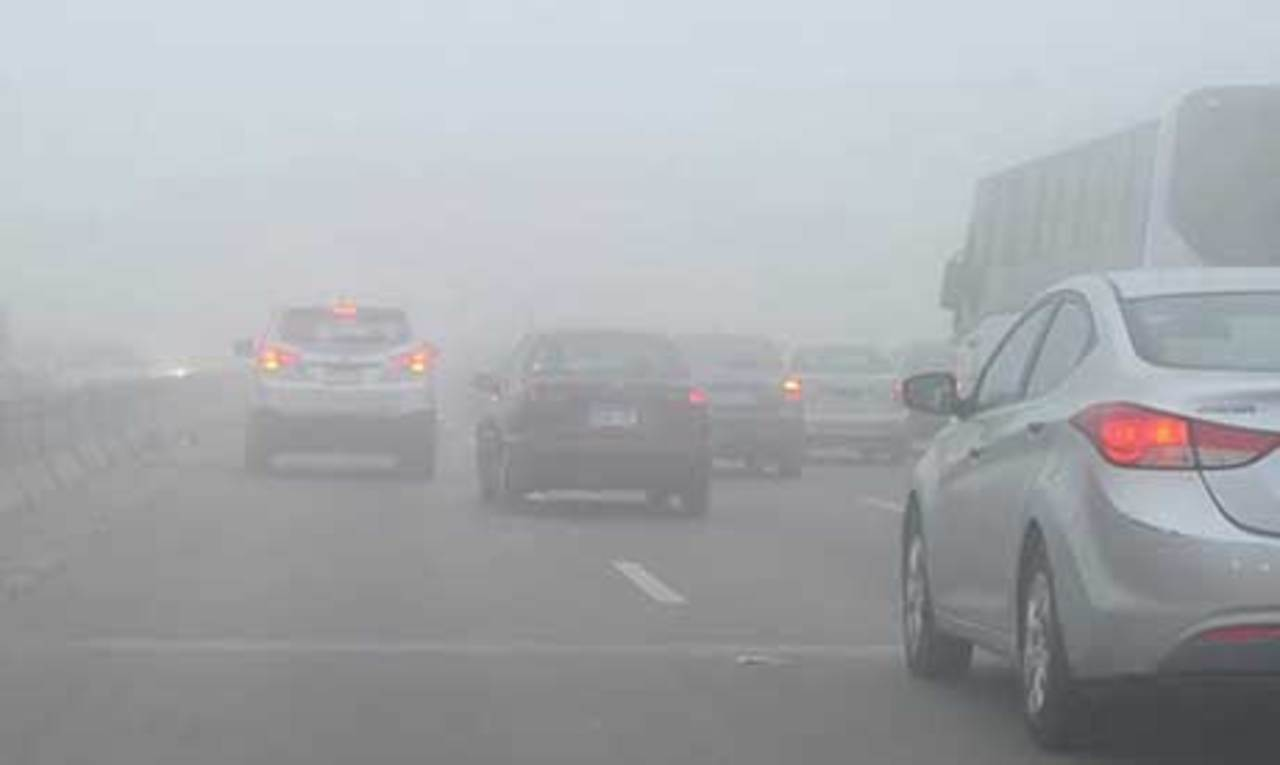bus: (941, 79, 1275, 406)
car: (883, 270, 1276, 754), (472, 326, 719, 517), (236, 298, 441, 475), (675, 330, 809, 480), (783, 343, 901, 463), (900, 330, 952, 457)
